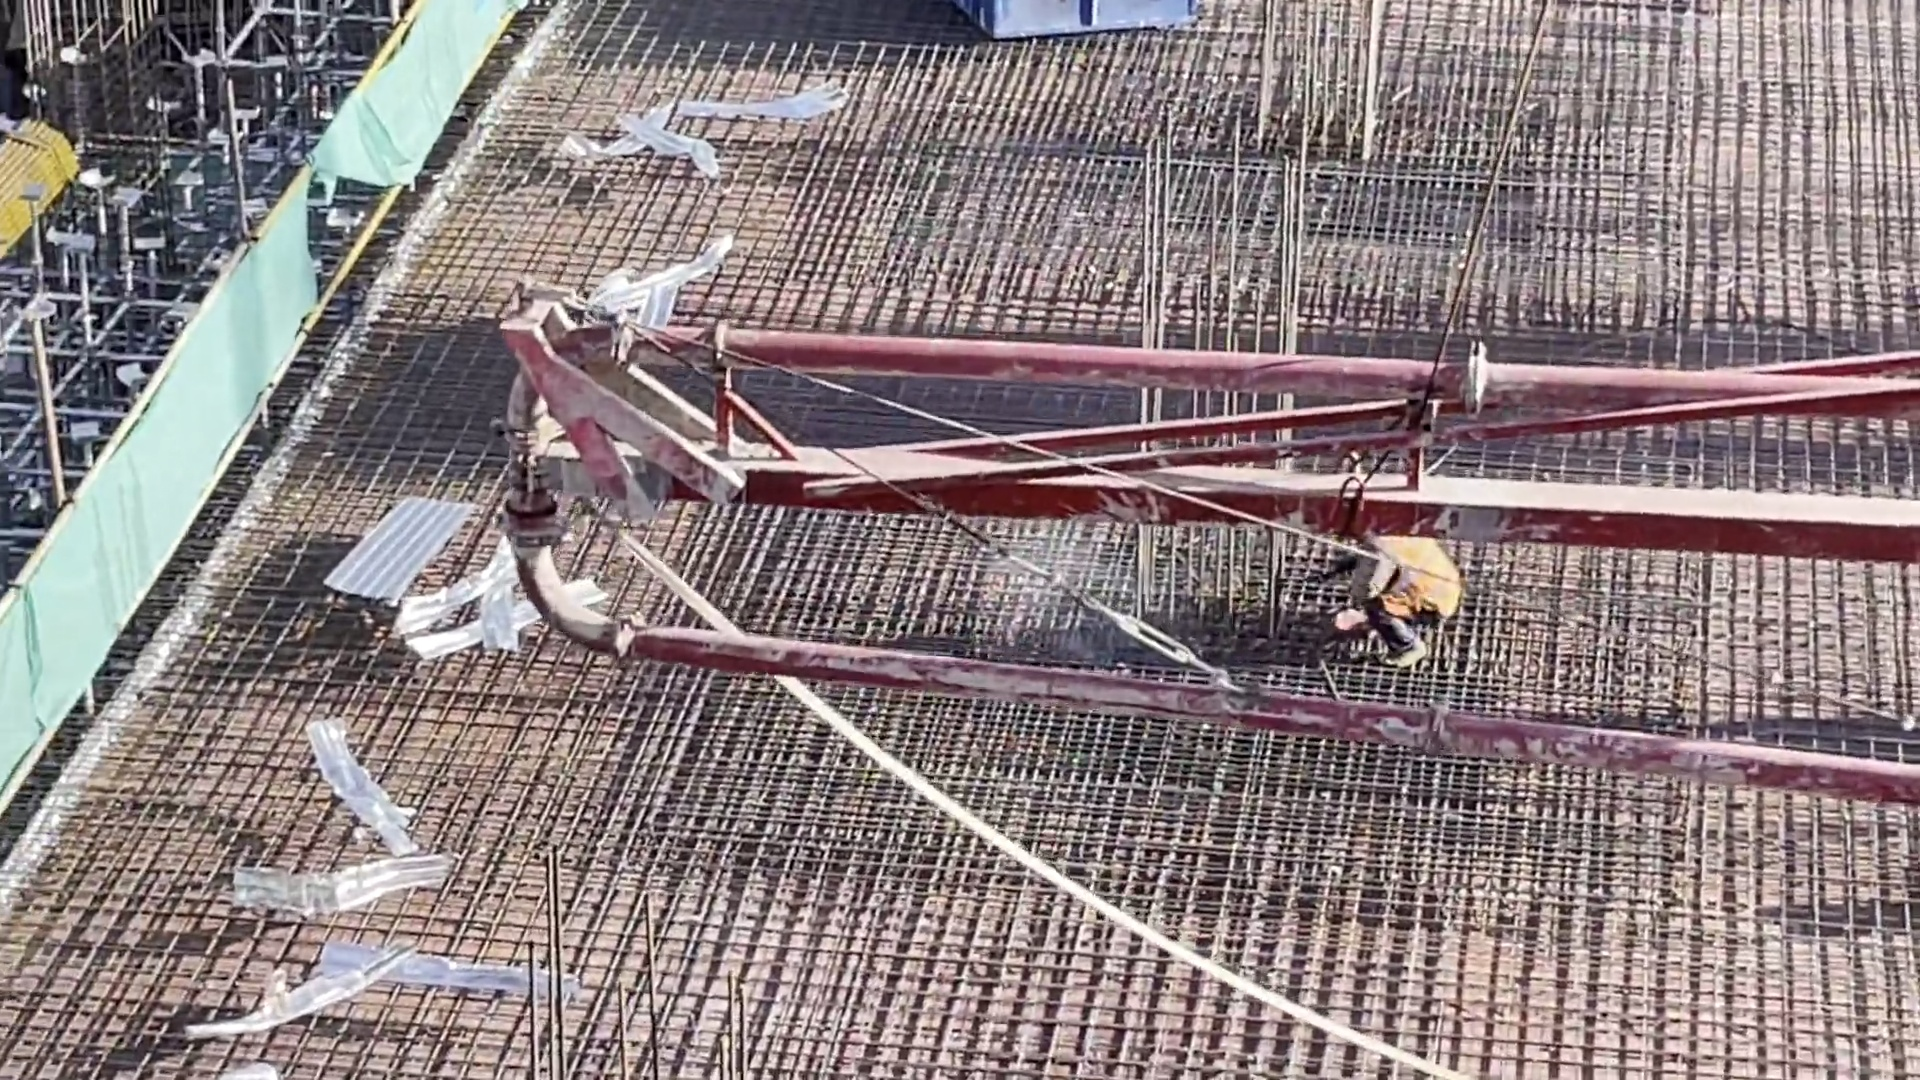hopper: (985, 1, 1186, 42)
person: (1322, 522, 1470, 675)
vest: (1369, 531, 1448, 630)
